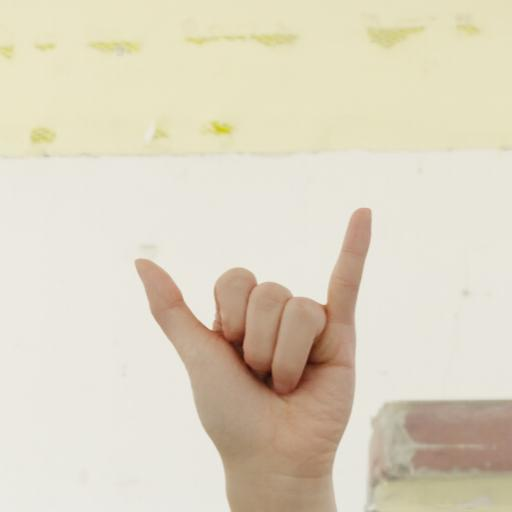Y: (125, 202, 389, 460)
